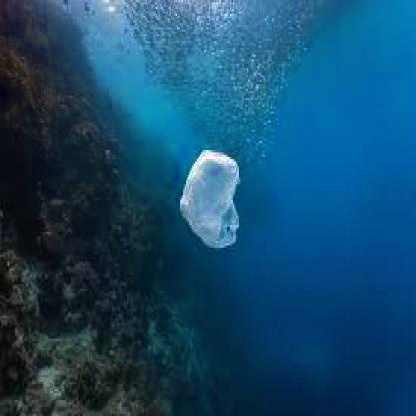pbag: (180, 148, 242, 248)
